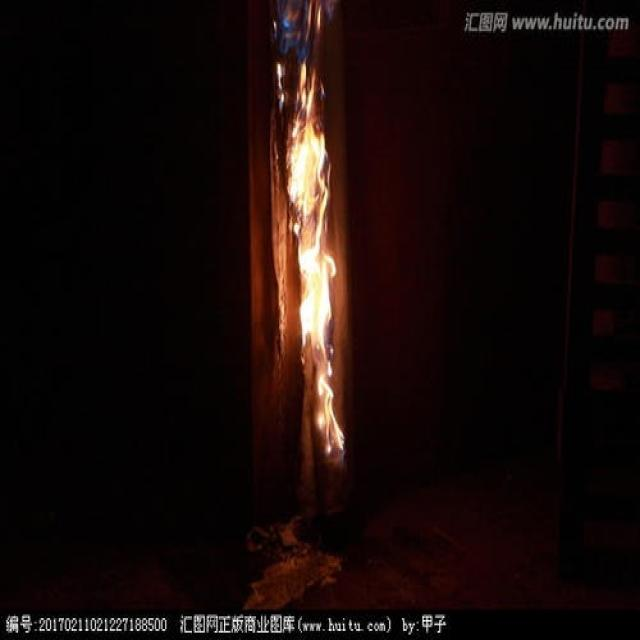fire: (246, 51, 381, 529)
